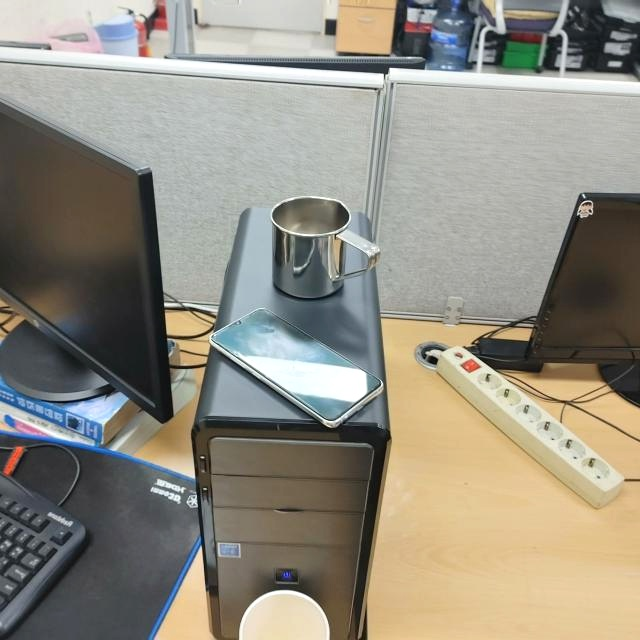cup: (270, 195, 382, 301)
phone: (208, 305, 385, 429)
